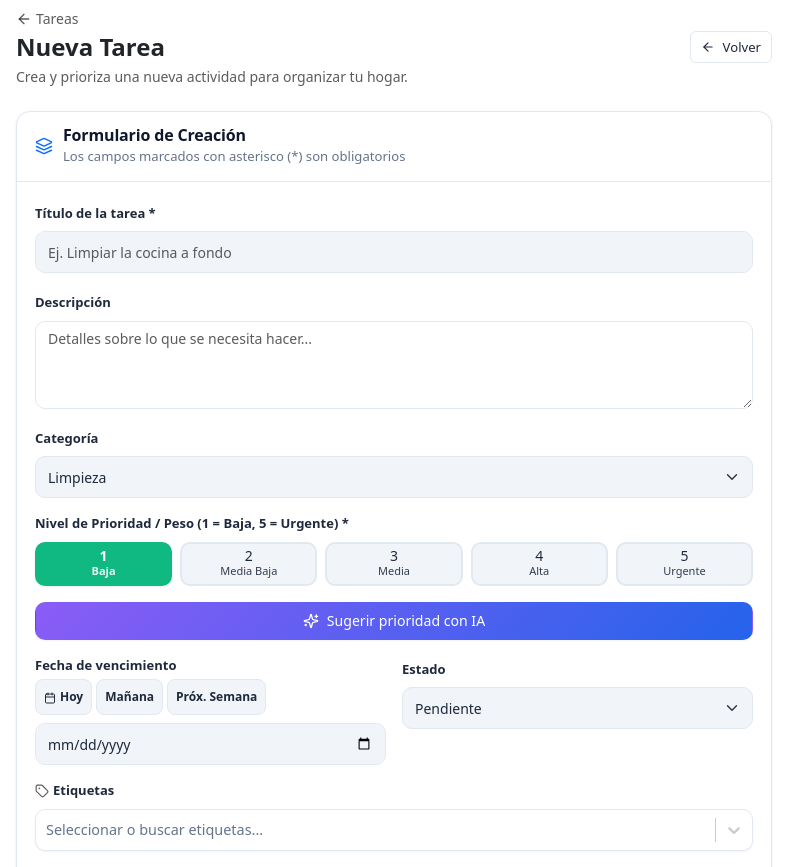
TaskForm Component › obtiene sugerencia de prioridad con IA y actualiza el nivel
Type "Reparar fuga de agua urgente" into the field labelled "Título de la tarea *" at (394, 252), box [35,231,753,273]
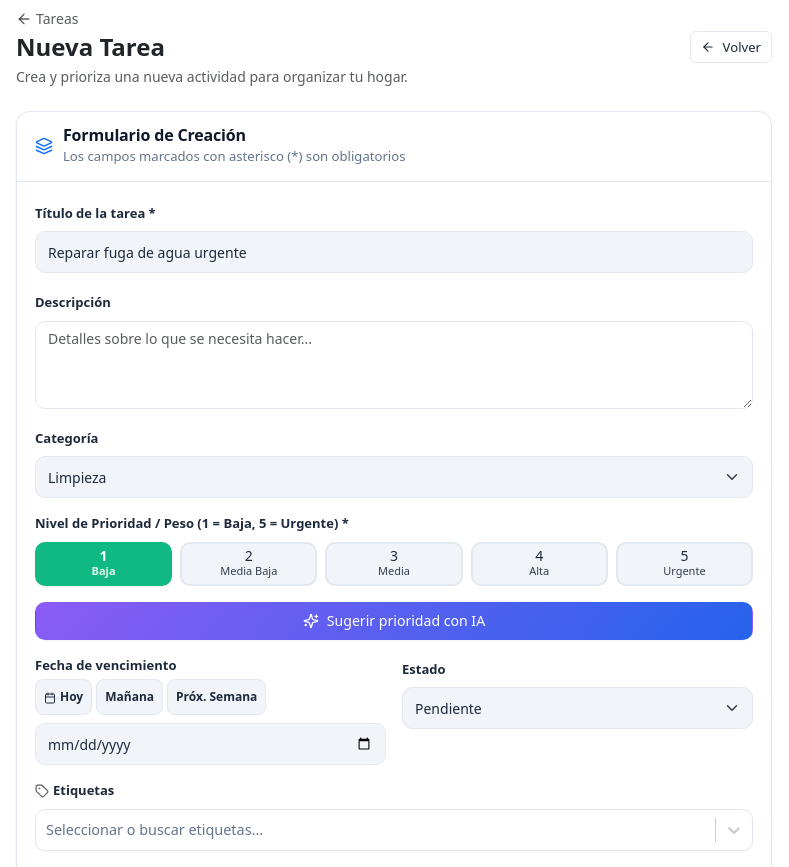
Click the button "Sugerir prioridad con IA" at (394, 621), box [35,602,753,640]
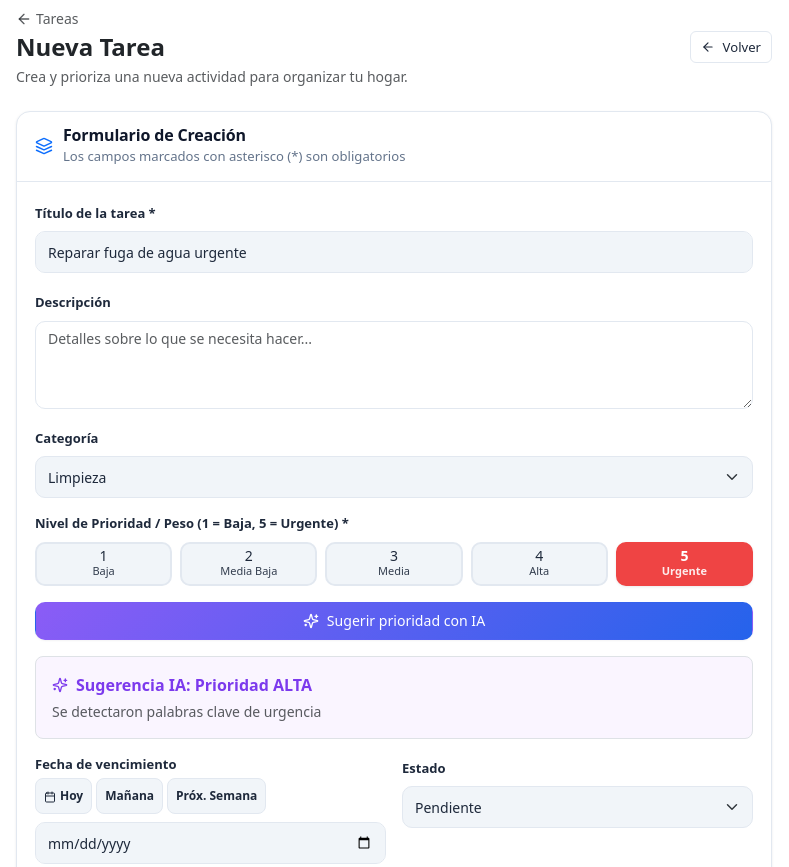
Expected: the text "Sugerencia IA: Prioridad ALTA" is shown, [76,673,312,697]
Expected: the text "Se detectaron palabras clave de urgencia" is shown, [52,702,321,721]
